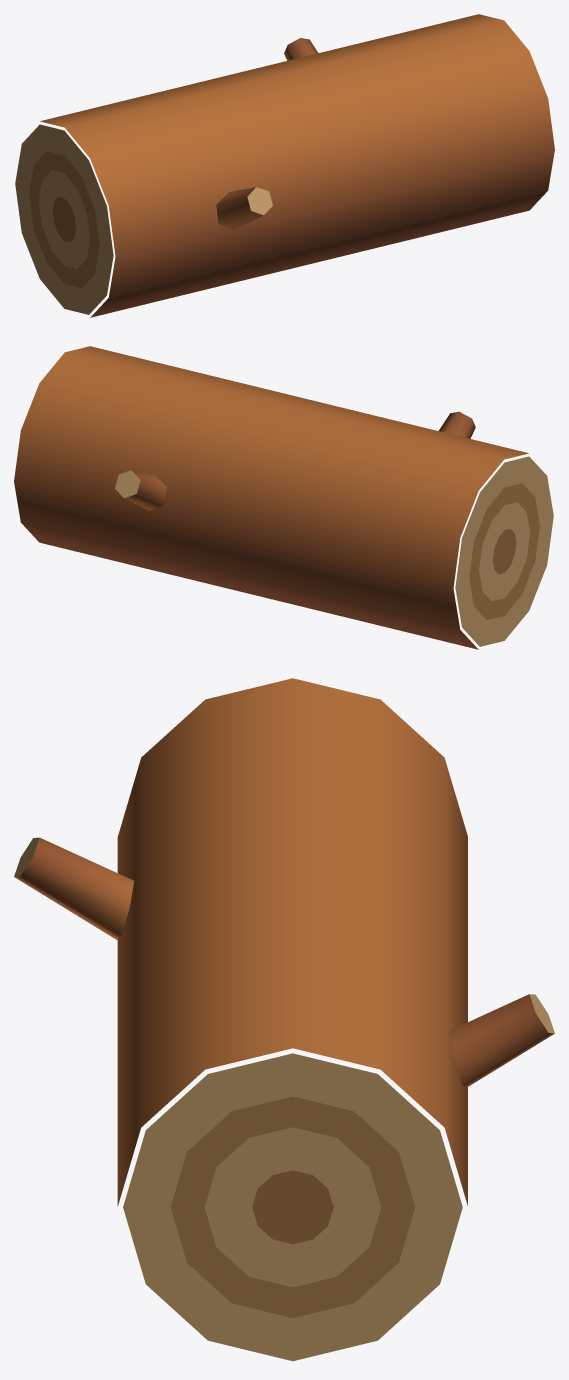
File: log-large.glb
The picture shows the model from 3 angles, top to bottom: view 1: azimuth 30°, elevation 25°; view 2: azimuth 150°, elevation 25°; view 3: azimuth 270°, elevation 25°; orthographic projection. The views are drawn at different scales.
Visible parts, largest first — view 1: log.large; view 2: log.large; view 3: log.large.
Boxes of the visible parts, x1,y1,x2,y2 form: log.large: (15,14,554,317); log.large: (14,346,553,649); log.large: (14,678,554,1361).
Size of the model in its own units: 2.6 by 1.04 by 1.61.
